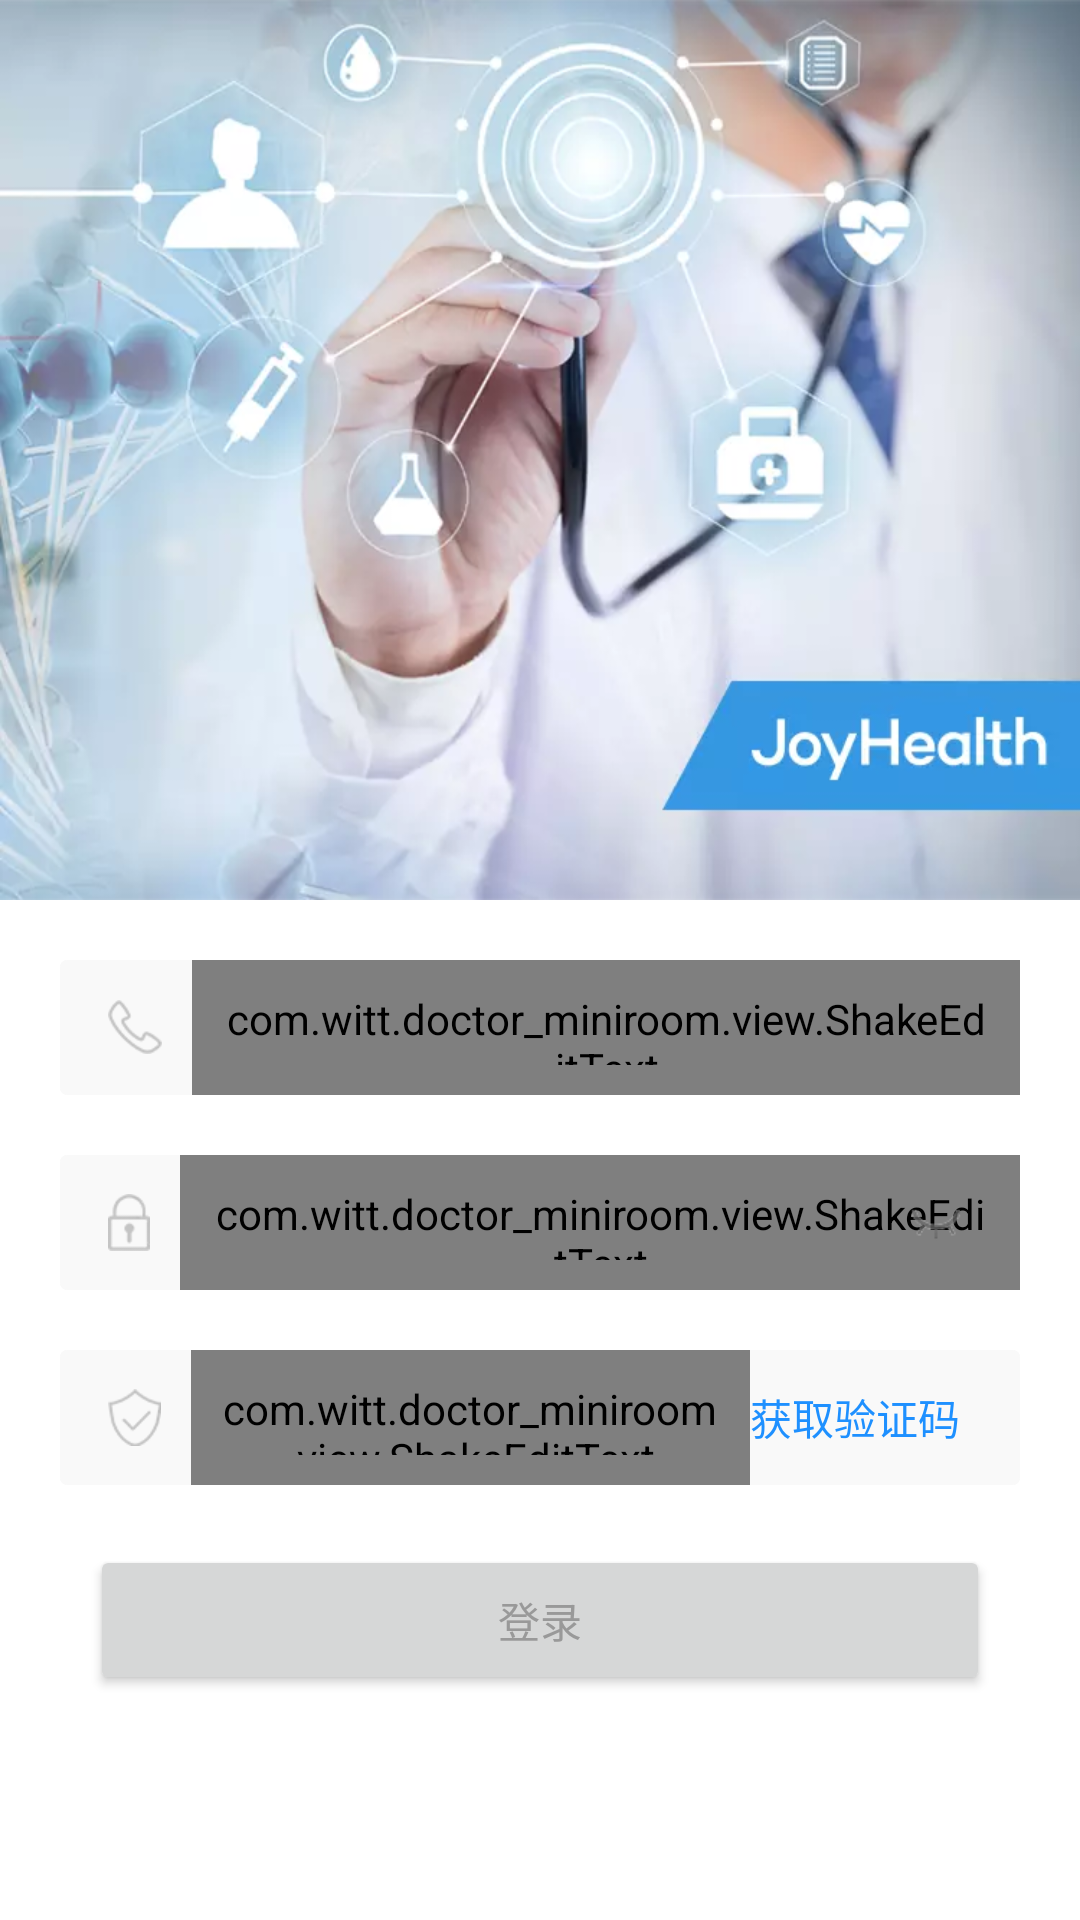

Screen size 1080×1920. Icon name, then its box in pixels as (x1, y1, x2, y2):
code: (108, 1389, 161, 1446)
password: (108, 1194, 150, 1251)
